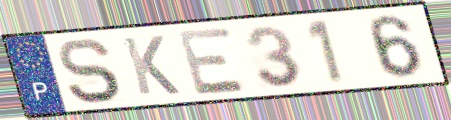1: (305, 17, 347, 85)
3: (243, 22, 305, 90)
6: (365, 12, 428, 81)
E: (174, 25, 251, 98)
K: (119, 34, 183, 97)
S: (54, 36, 124, 105)
